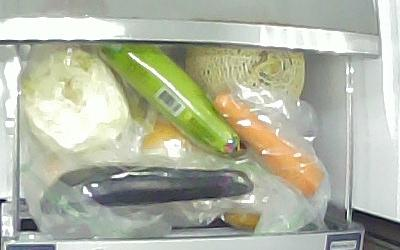cabbage_vinyl: (23, 44, 130, 152)
carrot_vinyl: (214, 95, 325, 198)
eggplant_vinyl: (37, 163, 255, 216)
melon: (183, 43, 305, 104)
tangerine_vinyl: (140, 123, 193, 151)
zucchini: (92, 43, 238, 156)
